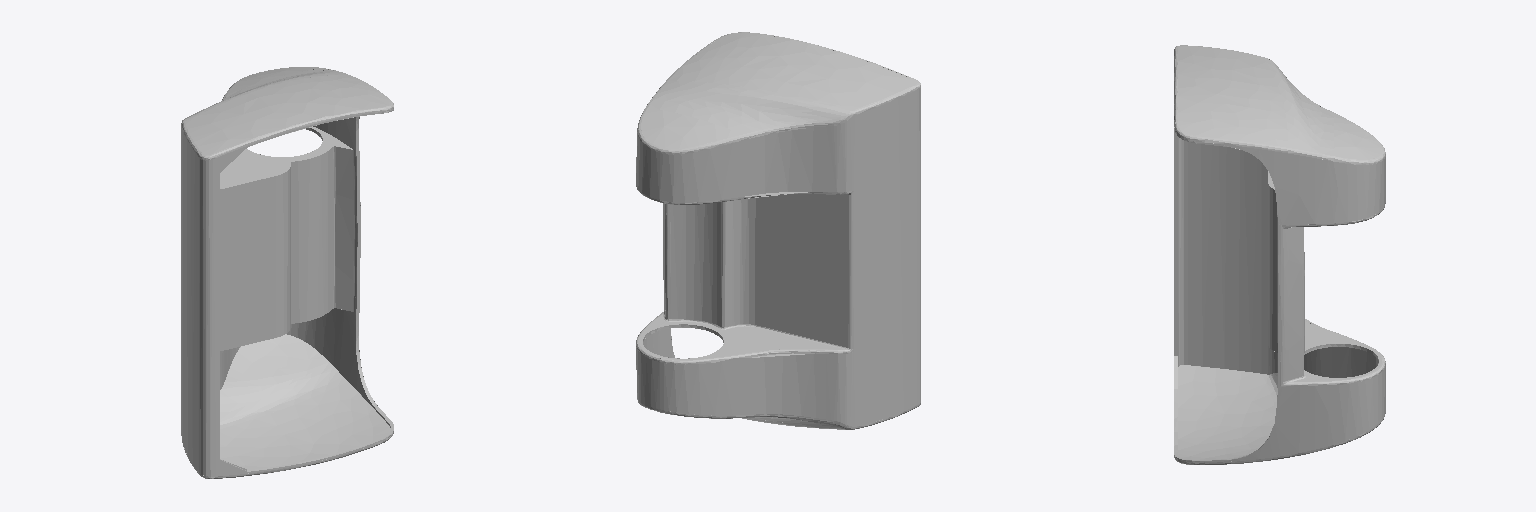
File: head_tilt.obj
The picture shows the model from 3 angles: view 1: azimuth 30°, elevation 25°; view 2: azimuth 150°, elevation 25°; view 3: azimuth 270°, elevation 25°; orthographic projection.
Bounding box in the file's own units: 0.1326 × 0.2109 × 0.1173.